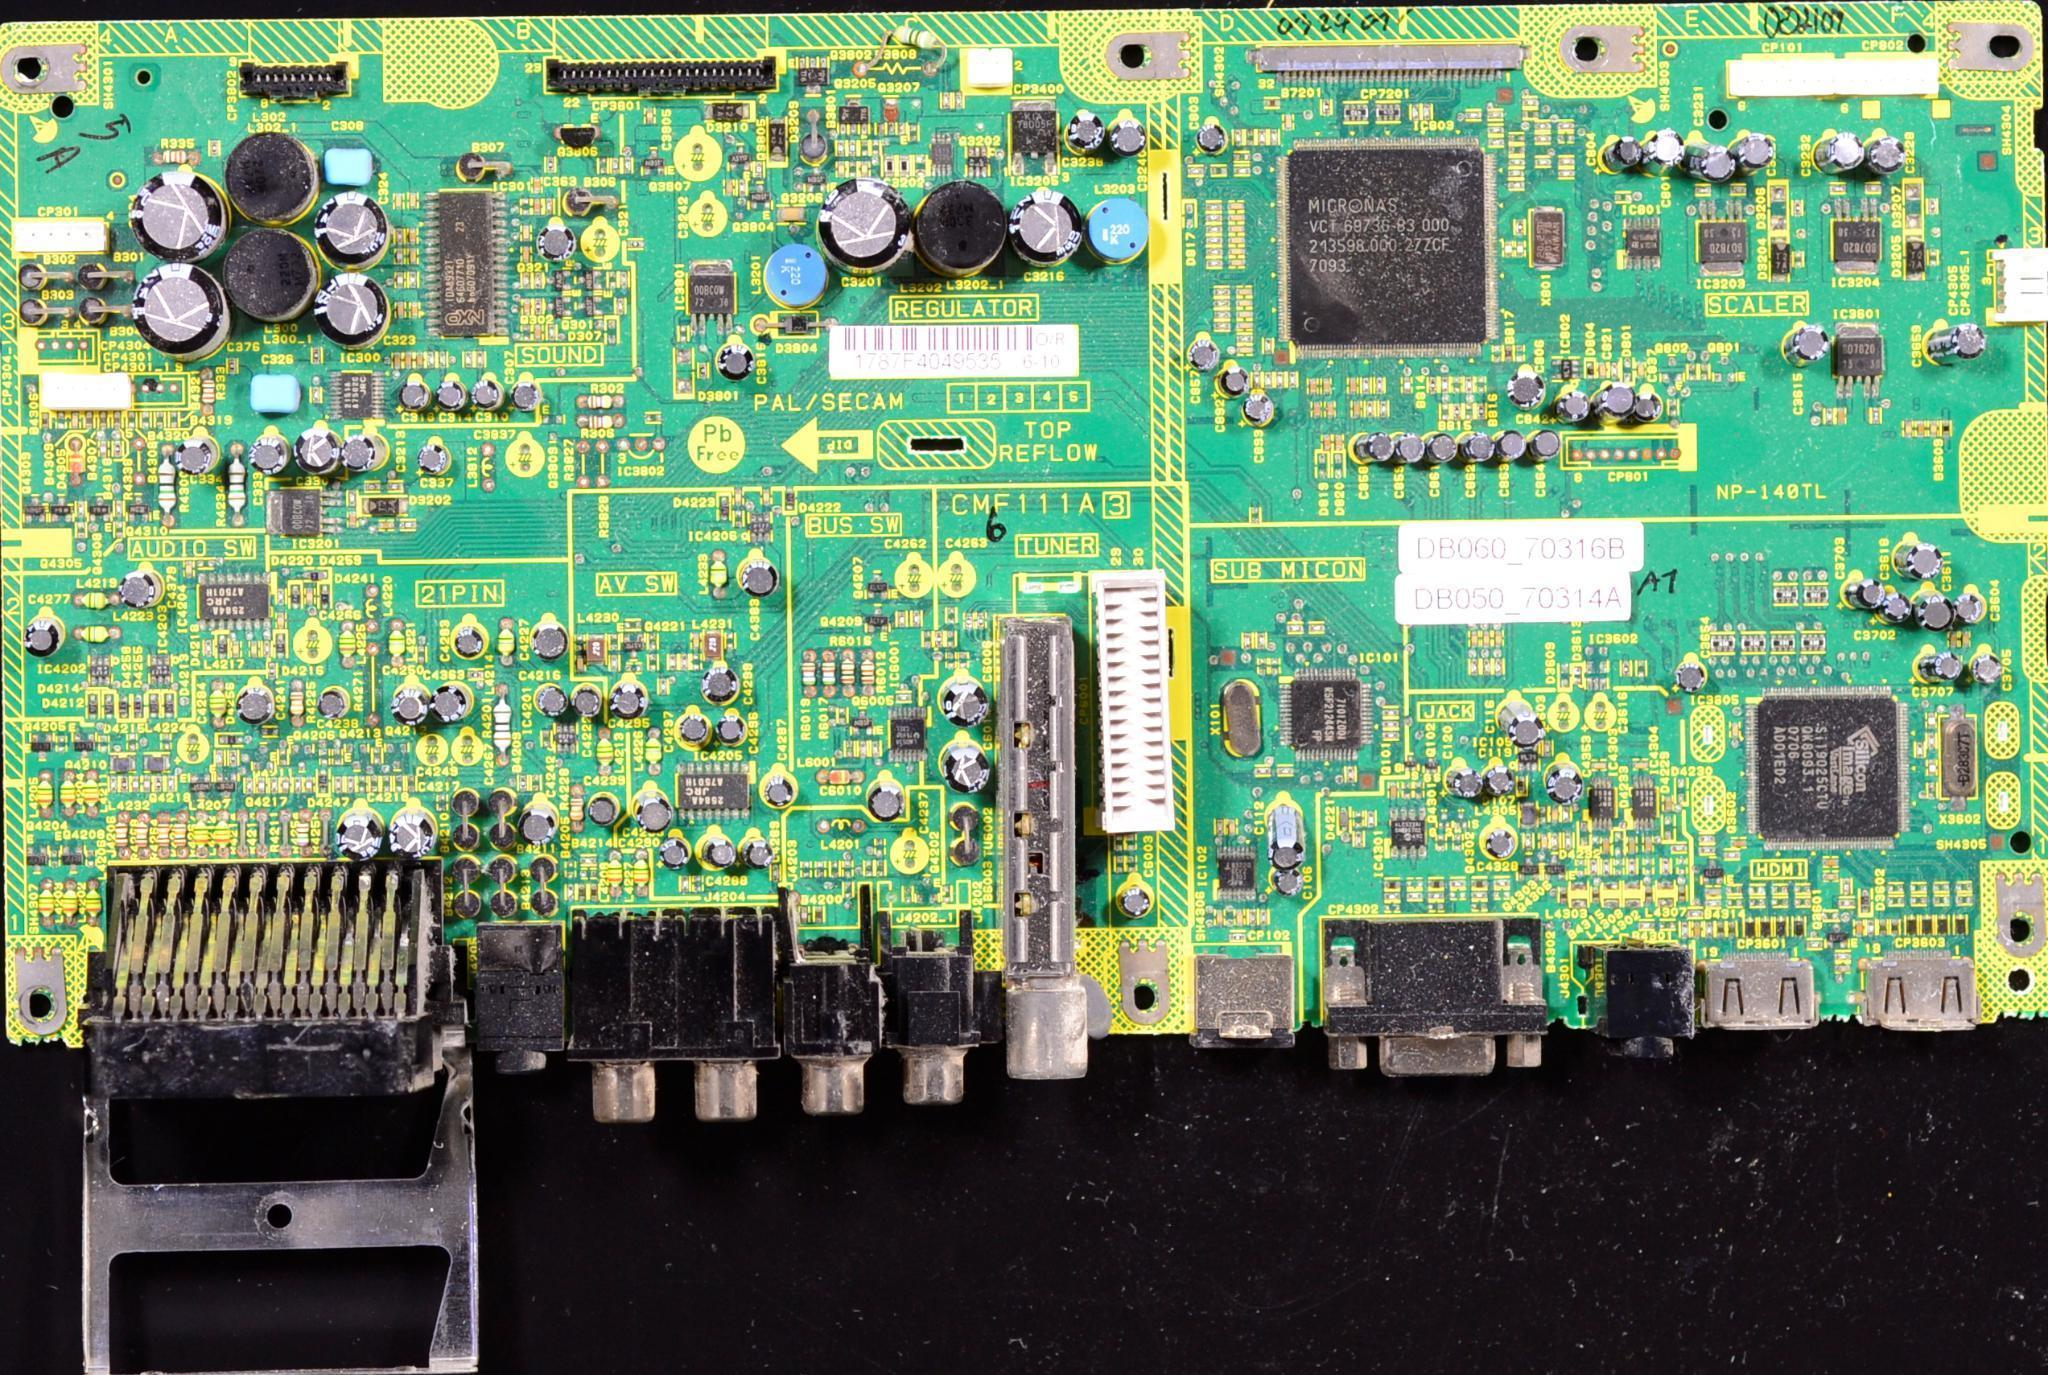Capacitor: (780, 209, 806, 222), (1386, 783, 1398, 801), (305, 584, 314, 606), (858, 160, 870, 176), (274, 612, 286, 628), (1513, 242, 1524, 259), (658, 678, 669, 695), (1853, 920, 1863, 938), (644, 107, 654, 125), (1836, 406, 1846, 424), (1915, 419, 1925, 437), (1226, 818, 1237, 834), (311, 387, 322, 403), (1539, 831, 1548, 850), (532, 177, 541, 196), (166, 774, 175, 793), (1229, 223, 1246, 233), (1550, 805, 1559, 823), (1627, 837, 1636, 855), (837, 159, 846, 177), (394, 192, 403, 210), (409, 192, 418, 210), (1228, 202, 1246, 211), (1227, 213, 1245, 222), (1237, 345, 1255, 354), (1692, 920, 1700, 940), (214, 750, 224, 766), (1663, 795, 1673, 811), (523, 246, 532, 263), (1229, 258, 1246, 267), (763, 487, 772, 504), (305, 776, 314, 793), (1312, 400, 1320, 419), (692, 633, 700, 652), (1822, 870, 1837, 880), (1333, 434, 1343, 449), (1602, 837, 1610, 855), (1284, 113, 1293, 129), (409, 229, 418, 245), (1226, 246, 1244, 254), (1503, 243, 1512, 259), (1638, 361, 1647, 377), (1308, 378, 1316, 396), (1929, 420, 1938, 436), (348, 511, 356, 529), (1470, 630, 1478, 648), (408, 249, 416, 266), (1236, 299, 1253, 307), (1598, 361, 1606, 378), (1349, 377, 1357, 394), (1322, 377, 1330, 394), (1237, 288, 1252, 297), (294, 776, 303, 791), (257, 778, 266, 793), (1645, 836, 1652, 855), (1730, 839, 1746, 847), (1227, 236, 1243, 244), (1326, 402, 1334, 418), (1904, 420, 1912, 436), (185, 560, 193, 576), (724, 180, 733, 194), (397, 301, 404, 319), (1404, 375, 1411, 393), (269, 778, 278, 792), (532, 200, 540, 215), (1323, 434, 1331, 449), (1961, 632, 1969, 647), (249, 642, 257, 657), (411, 302, 418, 319), (1236, 311, 1253, 318), (1483, 630, 1490, 647), (1495, 630, 1502, 647), (143, 775, 149, 794), (1215, 911, 1222, 927), (524, 298, 531, 314), (415, 353, 423, 367), (1440, 377, 1448, 391), (1732, 723, 1739, 739), (1353, 399, 1359, 417), (1822, 858, 1837, 865), (534, 326, 541, 341), (1466, 376, 1473, 391), (233, 642, 240, 657), (245, 778, 252, 793), (281, 778, 288, 793), (1235, 911, 1243, 924), (131, 777, 139, 790), (1237, 322, 1254, 328), (1950, 631, 1956, 648), (394, 352, 401, 366), (382, 520, 395, 527), (523, 226, 528, 242), (406, 353, 411, 369)
Connector: (545, 55, 786, 95), (1988, 241, 2047, 326)
IC: (1286, 146, 1494, 351), (1748, 692, 1903, 844), (426, 189, 507, 343), (1282, 672, 1373, 759), (198, 573, 271, 629), (676, 761, 749, 817), (1008, 96, 1058, 172), (264, 489, 342, 535), (1837, 326, 1884, 398), (687, 262, 735, 332), (1833, 203, 1880, 272), (1698, 202, 1743, 270), (330, 371, 383, 417), (1621, 218, 1663, 272), (888, 706, 928, 761), (1216, 847, 1254, 901), (1388, 809, 1427, 857), (1629, 774, 1660, 829), (1587, 778, 1615, 831), (927, 133, 956, 175), (962, 142, 993, 178), (145, 655, 173, 687), (89, 654, 112, 685), (746, 515, 773, 540), (1551, 355, 1581, 377), (1635, 760, 1650, 770), (1592, 761, 1608, 770), (1522, 99, 1539, 107), (1535, 122, 1550, 130)
Resistor: (225, 441, 249, 526), (488, 690, 513, 764), (155, 442, 176, 524), (294, 812, 312, 855), (568, 785, 584, 831), (199, 369, 215, 415), (157, 148, 198, 165), (802, 651, 817, 694), (116, 813, 131, 855), (134, 814, 149, 856), (287, 681, 302, 723), (861, 649, 874, 692), (842, 651, 855, 694), (578, 395, 621, 407), (578, 415, 622, 426), (823, 652, 834, 693), (159, 812, 169, 855), (178, 812, 186, 855), (393, 227, 405, 248), (1206, 200, 1221, 213), (1215, 320, 1231, 332), (1533, 158, 1551, 168), (1464, 112, 1483, 121), (1557, 157, 1576, 166), (1452, 402, 1462, 419), (401, 517, 416, 528), (1558, 120, 1574, 130), (1508, 158, 1525, 167), (1205, 260, 1222, 269), (409, 271, 418, 288), (229, 750, 238, 767), (1842, 878, 1850, 896), (1411, 104, 1420, 120), (837, 140, 846, 156), (1557, 171, 1575, 179), (1515, 220, 1524, 236), (935, 630, 943, 648), (388, 481, 402, 491), (965, 611, 973, 628), (977, 611, 985, 628), (1214, 818, 1223, 833), (1535, 135, 1550, 144), (120, 776, 129, 791), (630, 239, 643, 249), (1205, 213, 1221, 221), (1205, 227, 1221, 235), (1205, 236, 1221, 244), (348, 490, 356, 506), (1322, 100, 1331, 114), (1215, 310, 1229, 319), (366, 480, 380, 489), (1507, 169, 1524, 176), (1206, 249, 1223, 256), (268, 661, 275, 678), (154, 777, 163, 790), (1429, 375, 1435, 394), (1424, 103, 1431, 119), (534, 298, 541, 314), (1477, 402, 1484, 418), (1506, 182, 1524, 188), (396, 252, 403, 267), (1622, 660, 1629, 675), (396, 273, 403, 287), (313, 349, 320, 362), (849, 141, 855, 156), (612, 159, 618, 172), (1215, 289, 1230, 294), (1214, 302, 1228, 307)
Transistor: (835, 95, 871, 136), (796, 59, 825, 92), (640, 147, 666, 175), (847, 706, 873, 733), (28, 733, 57, 756), (622, 634, 644, 664), (49, 496, 71, 523), (190, 773, 212, 800), (575, 298, 602, 319), (25, 496, 46, 523), (71, 732, 95, 755), (867, 571, 888, 597), (25, 847, 47, 871), (1825, 925, 1847, 949), (867, 606, 889, 630), (217, 774, 238, 799), (729, 143, 749, 169), (804, 169, 826, 192), (751, 182, 770, 208), (576, 271, 602, 290), (63, 846, 84, 869), (88, 498, 109, 520), (553, 297, 574, 318), (129, 501, 149, 523), (553, 270, 572, 290)
